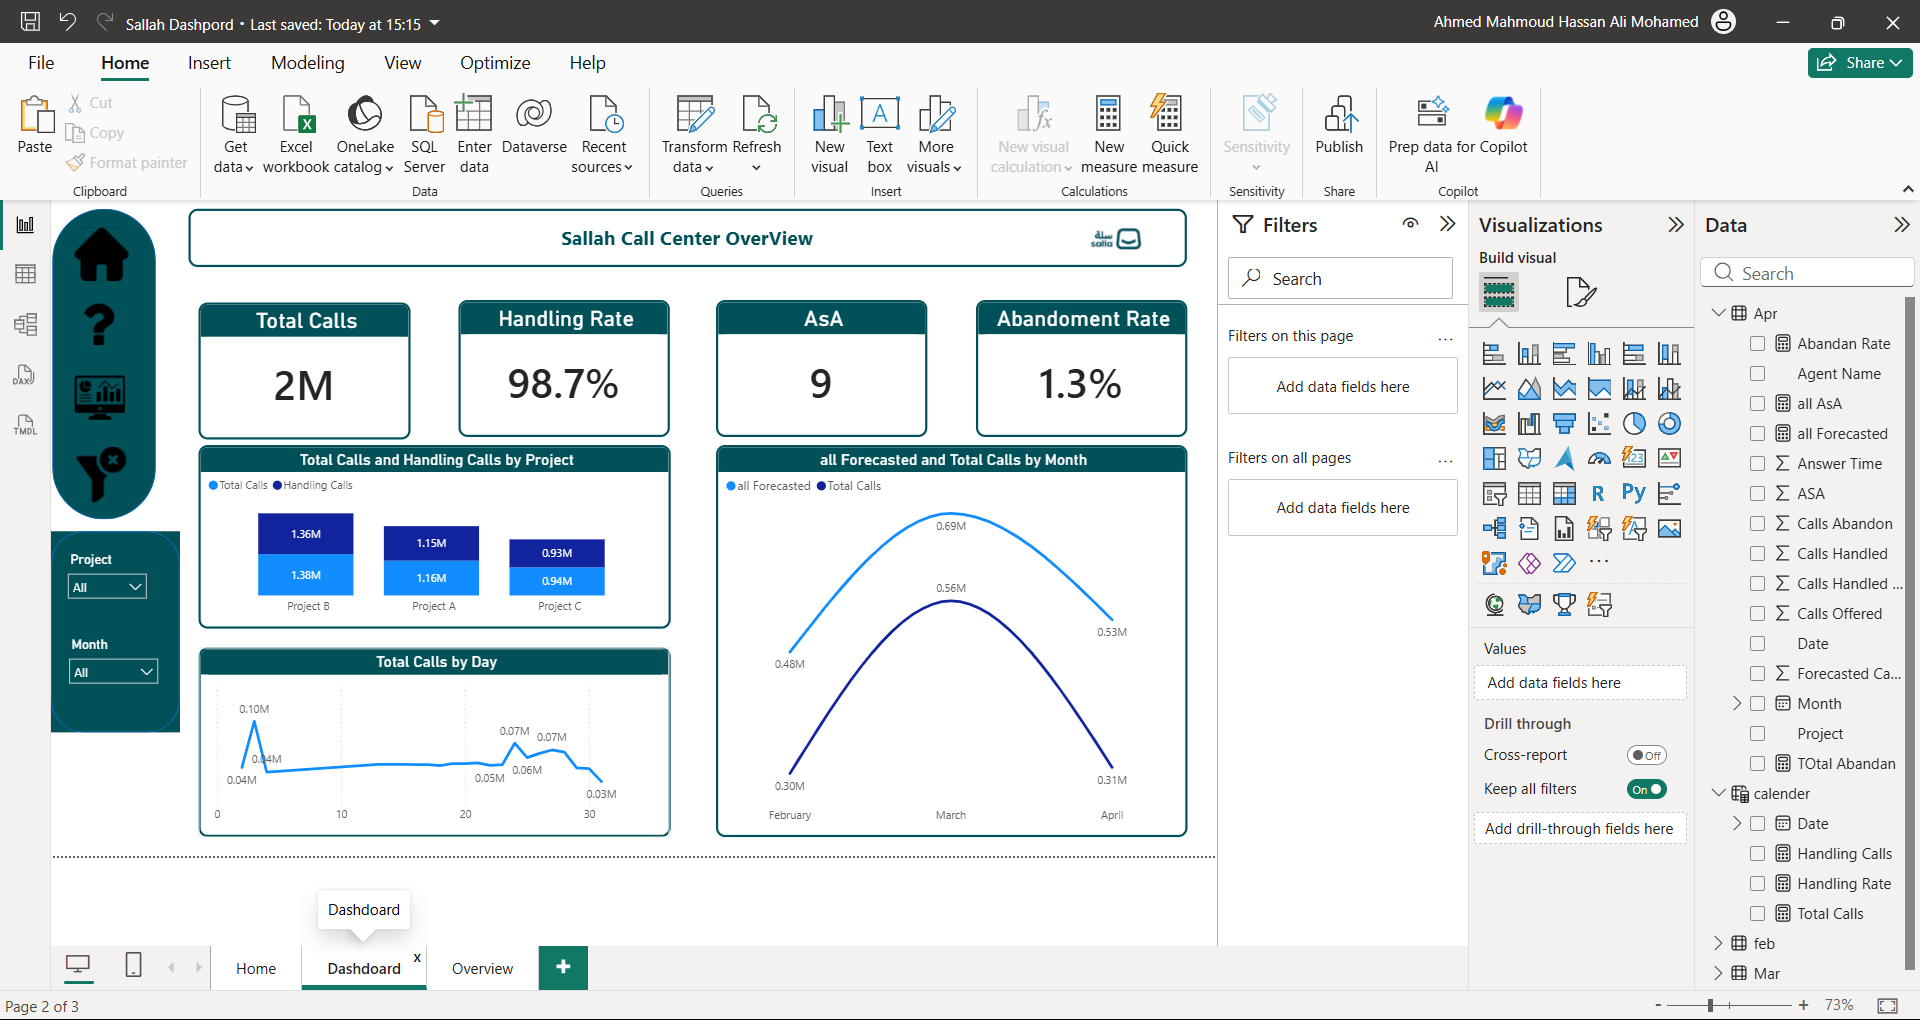

The page's visual inventory and layout, read from the dashboard file:
{"tool":"powerbi","page":{"name":"Dashdoard","canvas":[1280,720],"ordinal":1},"visuals":[{"type":"actionButton","box":[151.3,10.3,1096.2,64.1],"z":0},{"type":"actionButton","box":[1132.1,5.1,106.4,74.4],"z":1000},{"type":"cardVisual","title":"Total Calls","fields":{"Data":["calender.Total Calls"]},"box":[161.3,112,233.1,150.1],"z":2000},{"type":"cardVisual","title":"Handling Rate","fields":{"Data":["calender.Handling Rate"]},"box":[447.4,110.3,232.1,150],"z":3000},{"type":"cardVisual","title":"AsA","fields":{"Data":["Apr.all AsA"]},"box":[729.5,110.3,232.1,150],"z":4000},{"type":"cardVisual","title":"Abandoment Rate","fields":{"Data":["Apr.Abandan Rate"]},"box":[1015.4,110.3,232.1,150],"z":5000},{"type":"columnChart","fields":{"Category":["Mar.Project"],"Y":["calender.Total Calls","calender.Handling Calls"]},"box":[161.4,269,518.5,201.8],"z":6000},{"type":"lineChart","fields":{"Y":["Apr.all Forecasted","calender.Total Calls"],"Category":["calender.Date.Variation.Date Hierarchy.Month"]},"box":[728.8,269,517.3,430.4],"z":7000},{"type":"shape","box":[1.2,9.8,113.7,441.4],"z":8000},{"type":"actionButton","box":[22,25.7,72.1,67.3],"z":9000},{"type":"actionButton","box":[25.7,237.2,70.9,63.6],"z":10000},{"type":"lineChart","fields":{"Category":["calender.Date.Variation.Date Hierarchy.Day"],"Y":["calender.Total Calls"]},"box":[161.4,491.6,518.5,207.9],"z":12000},{"type":"actionButton","box":[30.6,144.3,80.7,53.8],"z":13000},{"type":"shape","box":[1.2,484.2,110.1,221.3],"z":14000},{"type":"actionButton","box":[22,348.5,69.7,86.8],"z":15000},{"type":"slicer","fields":{"Values":["feb.Project"]},"box":[12.2,629.8,84.4,69.7],"z":16000},{"type":"slicer","fields":{"Values":["calender.Date.Variation.Date Hierarchy.Month"]},"box":[12.2,511.1,79.5,64.8],"z":17000}]}

Visuals, with their boxes on the page's 1280x720 design canvas (x1, y1, x2, y2). These are canvas units, not pixel positions in the 1920x1020 screenshot, which may show the page scaled, cropped or inside an application window:
actionButton: x1=151, y1=10, x2=1248, y2=74
actionButton: x1=1132, y1=5, x2=1238, y2=80
"Total Calls" cardVisual: x1=161, y1=112, x2=394, y2=262
"Handling Rate" cardVisual: x1=447, y1=110, x2=680, y2=260
"AsA" cardVisual: x1=730, y1=110, x2=962, y2=260
"Abandoment Rate" cardVisual: x1=1015, y1=110, x2=1248, y2=260
columnChart - Mar.Project x calender.Total Calls: x1=161, y1=269, x2=680, y2=471
lineChart - Apr.all Forecasted x calender.Total Calls: x1=729, y1=269, x2=1246, y2=699
shape: x1=1, y1=10, x2=115, y2=451
actionButton: x1=22, y1=26, x2=94, y2=93
actionButton: x1=26, y1=237, x2=97, y2=301
lineChart - calender.Date.Variation.Date Hierarchy.Day x calender.Total Calls: x1=161, y1=492, x2=680, y2=700
actionButton: x1=31, y1=144, x2=111, y2=198
shape: x1=1, y1=484, x2=111, y2=706
actionButton: x1=22, y1=348, x2=92, y2=435
slicer - feb.Project: x1=12, y1=630, x2=97, y2=700
slicer - calender.Date.Variation.Date Hierarchy.Month: x1=12, y1=511, x2=92, y2=576
